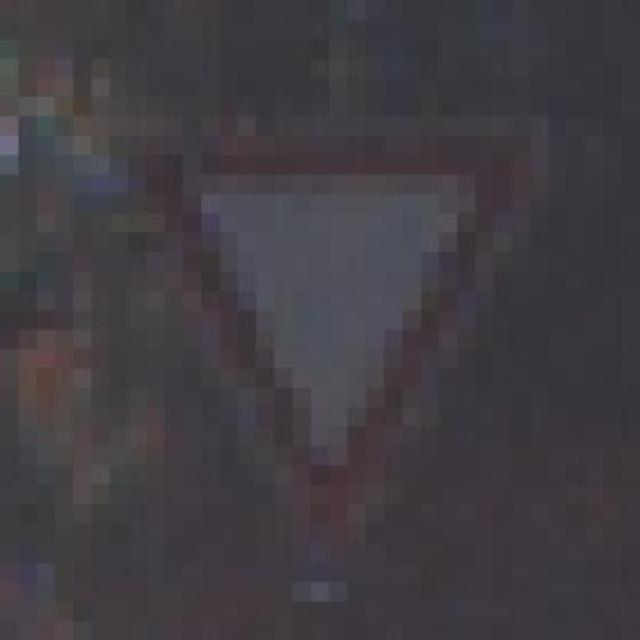Give Way: (110, 97, 567, 581)
